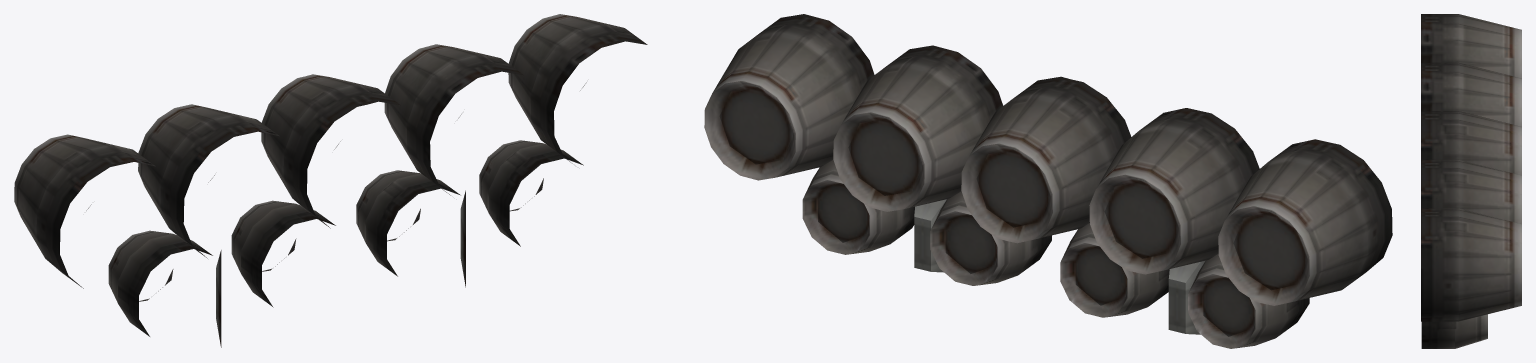
The model's file is hgn_flagship_explorer_04_engine_l_01.glb.
3 renders of one model, left to right at view 1: azimuth 30°, elevation 25°; view 2: azimuth 150°, elevation 25°; view 3: azimuth 270°, elevation 25°, orthographic. The views are drawn at different scales.
Visible parts, largest first — view 1: hgn_flagship_explorer_04_engine_l_01; view 2: hgn_flagship_explorer_04_engine_l_01; view 3: hgn_flagship_explorer_04_engine_l_01.
Part boxes in pixels (x1=…): hgn_flagship_explorer_04_engine_l_01: x1=14, y1=14, x2=647, y2=347; hgn_flagship_explorer_04_engine_l_01: x1=704, y1=14, x2=1392, y2=348; hgn_flagship_explorer_04_engine_l_01: x1=1421, y1=14, x2=1521, y2=348.
Size of the model in its own units: 2.42 by 0.7895 by 0.4265.
1 material, 1 textured.
